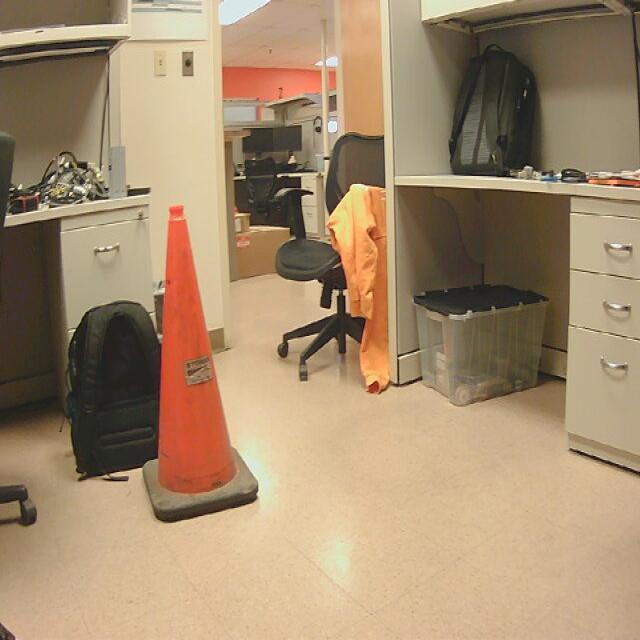traffic cone: (143, 206, 260, 525)
